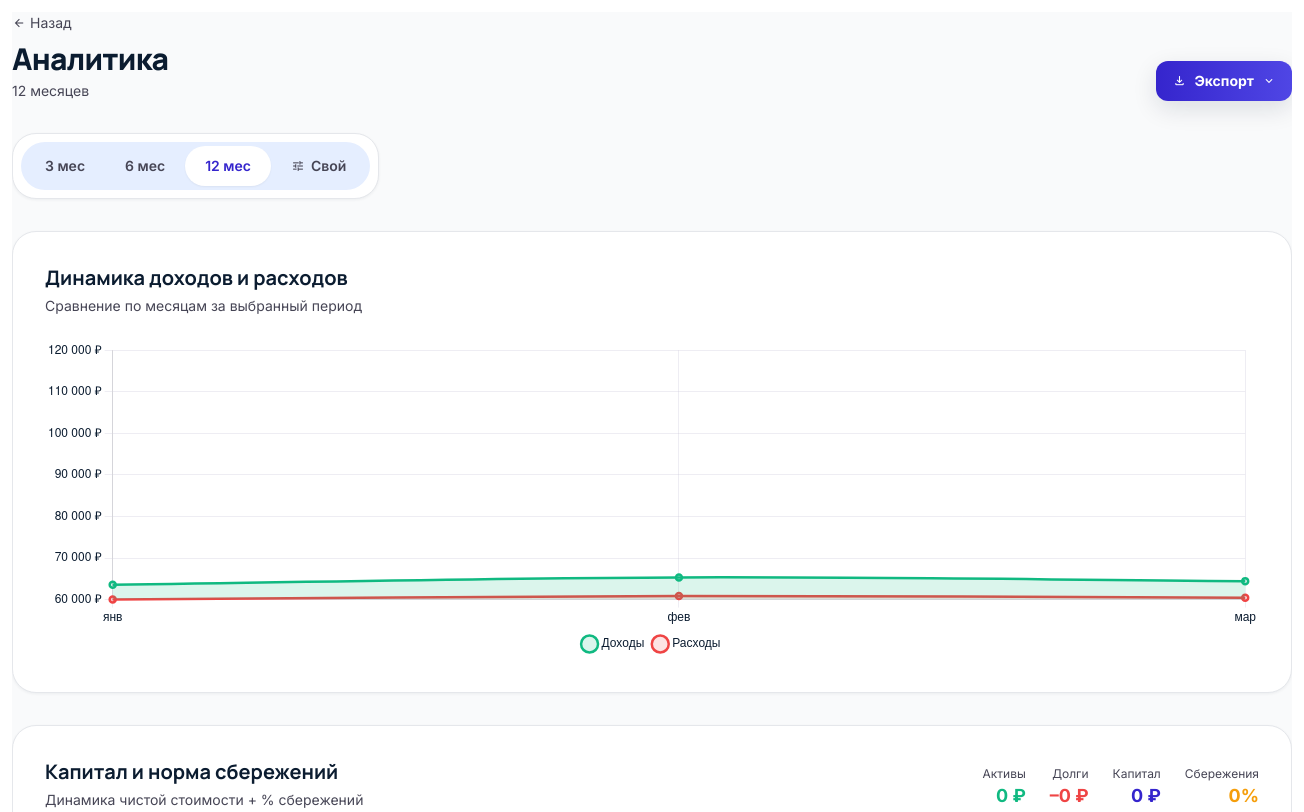
Test: Analytics › shows custom date inputs when custom period selected
Expected: the heading "Аналитика" is shown, x1=12 y1=41 x2=168 y2=77
Click the button "Свой" at (319, 166), box x1=271 y1=146 x2=366 y2=186
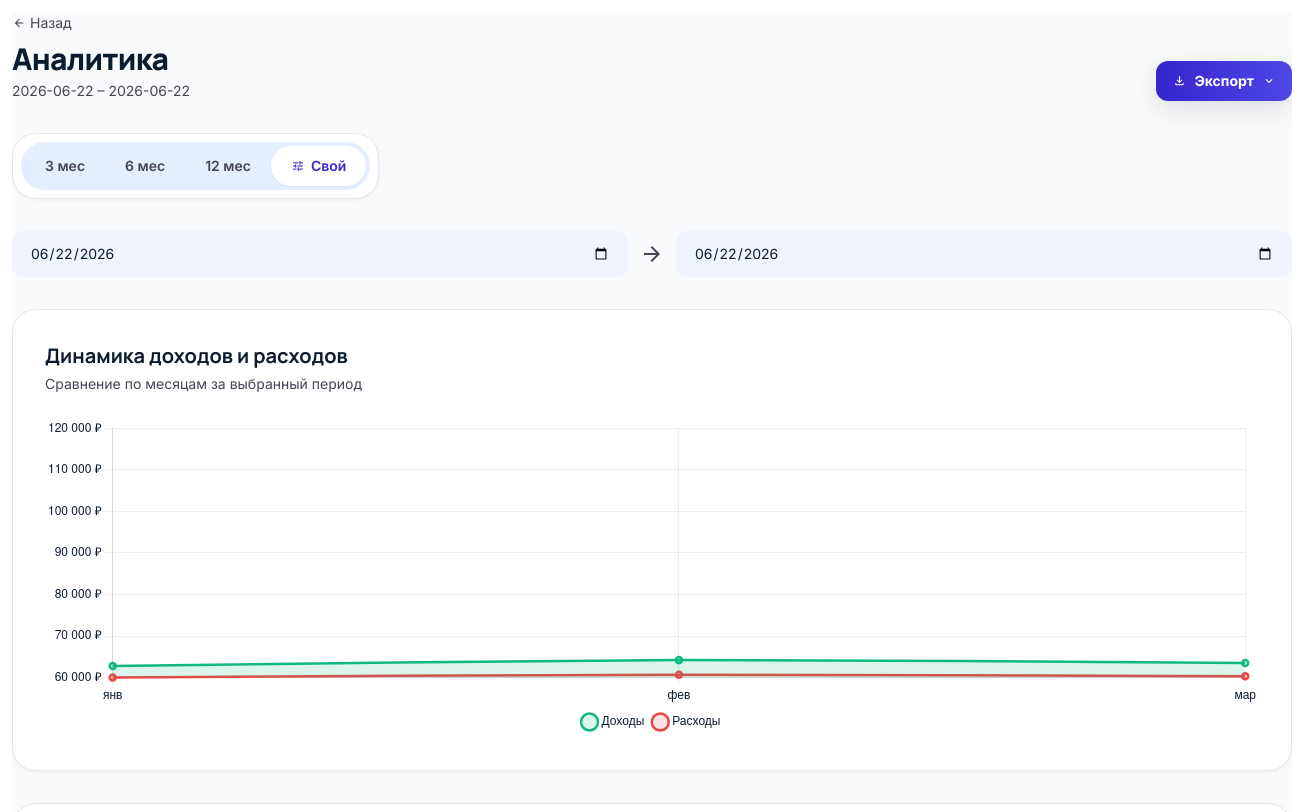
Now the number of date fields is 2, box x1=12 y1=231 x2=628 y2=277; x1=676 y1=231 x2=1292 y2=277
